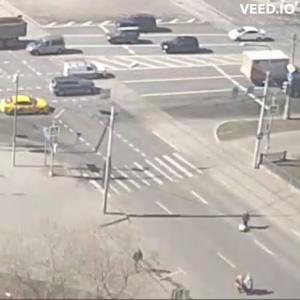car: (48, 77, 108, 100), (162, 36, 215, 56), (2, 96, 50, 116), (65, 61, 112, 80), (1, 13, 23, 50), (116, 13, 161, 31), (34, 36, 69, 58), (230, 27, 272, 44), (105, 30, 139, 45)
